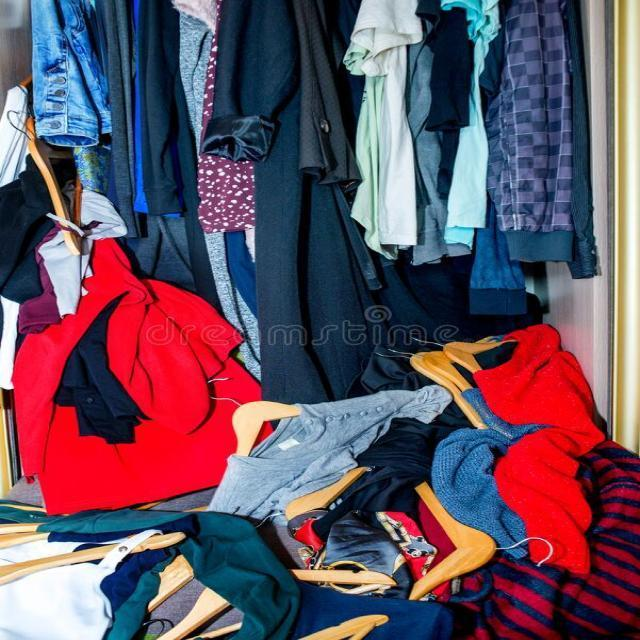clothes: (62, 70, 589, 606)
